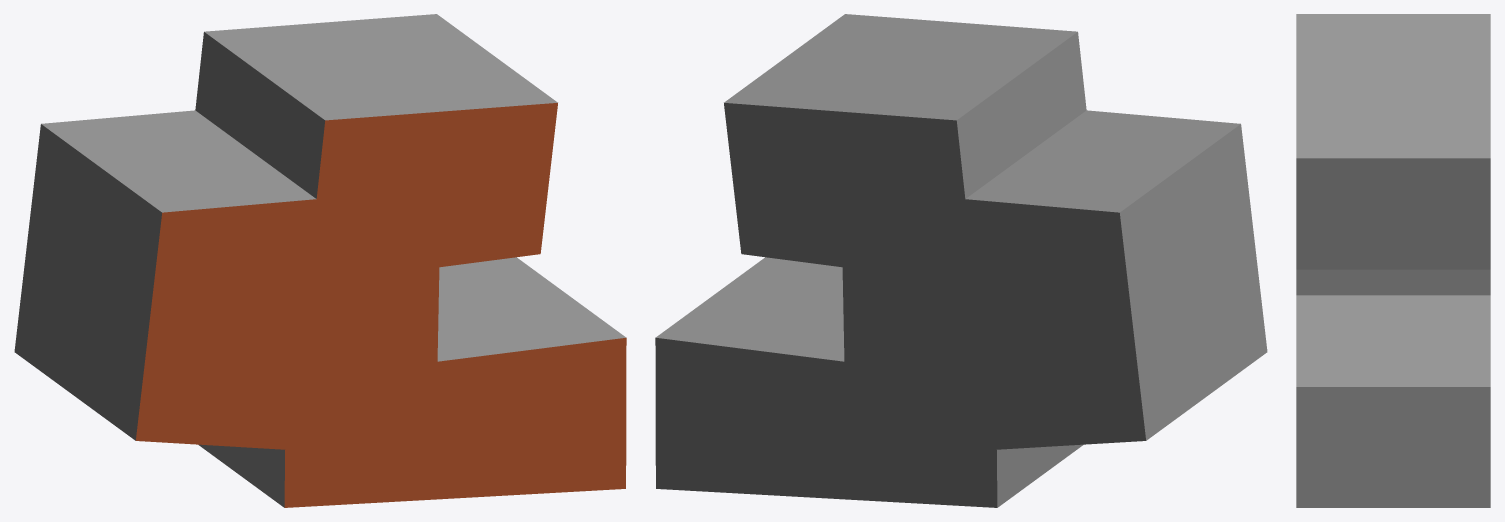
Rendered from construction_2386_assumed_A_Casa_h6m.obj.
The picture shows the model from 3 angles, left to right: view 1: azimuth 30°, elevation 25°; view 2: azimuth 150°, elevation 25°; view 3: azimuth 270°, elevation 25°; orthographic projection. The views are drawn at different scales.
Visible parts, largest first — view 1: construction_2386_assumed_A_Casa; view 2: construction_2386_assumed_A_Casa; view 3: construction_2386_assumed_A_Casa.
Boxes of the visible parts, x1,y1,x2,y2 form: construction_2386_assumed_A_Casa: (14,14,626,507); construction_2386_assumed_A_Casa: (655,14,1267,507); construction_2386_assumed_A_Casa: (1296,14,1490,507).
Bounding box in the file's own units: 14.01 × 12.06 × 6.
